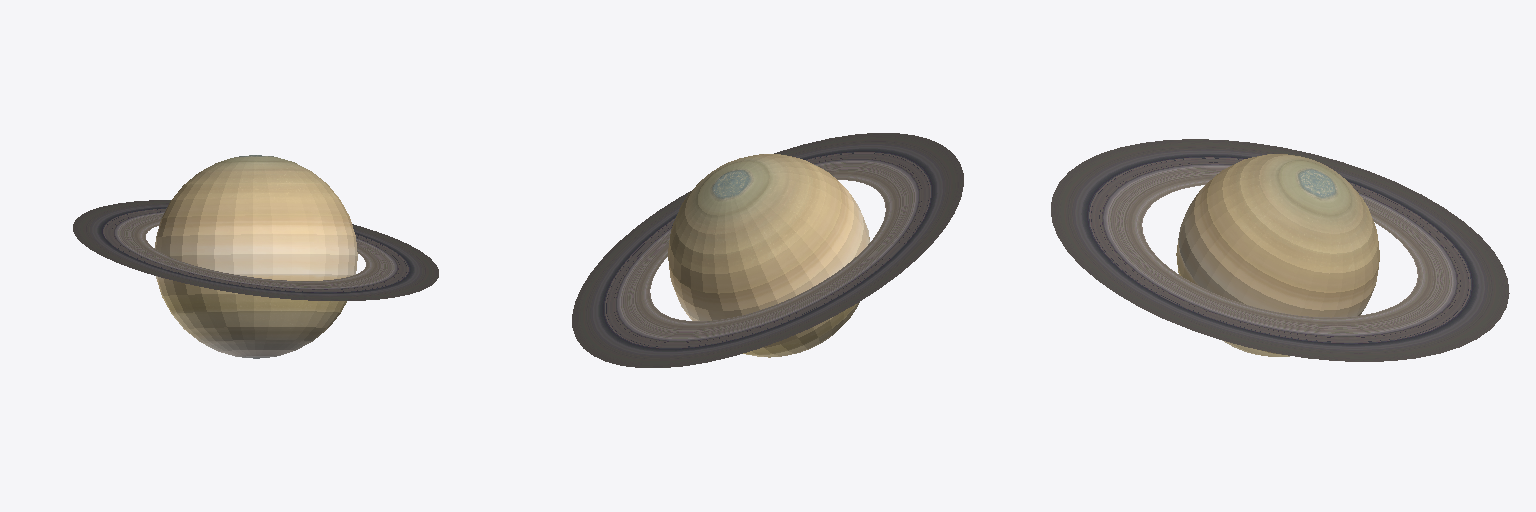
3 renders of one model, left to right at view 1: azimuth 30°, elevation 25°; view 2: azimuth 150°, elevation 25°; view 3: azimuth 270°, elevation 25°, orthographic.
Parts seen in each view (by area): view 1: 81, 94; view 2: 94, 81; view 3: 94, 81.
Boxes of the visible parts, x1,y1,x2,y2 form: 81: [155, 155, 357, 358]; 94: [73, 200, 438, 300]; 94: [572, 133, 963, 367]; 81: [668, 154, 869, 357]; 94: [1051, 139, 1509, 361]; 81: [1176, 154, 1379, 356].
Bounding box in the file's own units: 5.01 × 2.92 × 6.58.
2 materials, 2 textured.